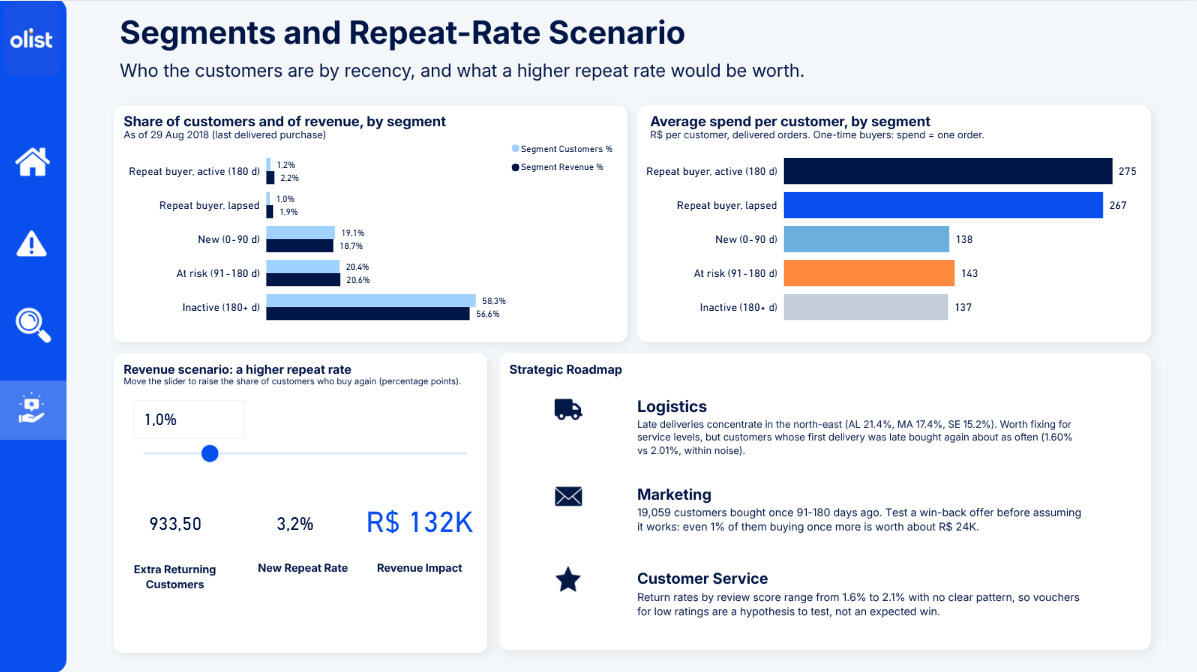

The dashboard page shown, as its layout file describes it:
{"tool":"powerbi","page":{"name":"Segments & Scenario","canvas":[1600,900],"ordinal":3},"visuals":[{"type":"clusteredBarChart","fields":{"Category":["rfm_segments.Segment Label"],"Y":["_measures.AVG LTV"]},"box":[856.3,178.9,673.2,271.8],"z":0},{"type":"slicer","fields":{"Values":["Retention Increase.Retention Increase"]},"box":[166.2,521.1,480.3,112.7],"z":1000},{"type":"cardVisual","fields":{"Data":["_measures.Estimated Revenue Gain"]},"box":[459.2,618.3,205.6,140.8],"z":2000},{"type":"clusteredBarChart","fields":{"Category":["rfm_segments.Segment Label"],"Y":["_measures.Segment Customers %","_measures.Segment Revenue %"]},"box":[166.2,178.9,666.2,271.8],"z":4000},{"type":"cardVisual","fields":{"Data":["_measures.Extra Returning Customers"]},"box":[154.9,618.3,160,140.8],"z":4001},{"type":"cardVisual","fields":{"Data":["_measures.Resulting Repeat Rate"]},"box":[315.5,618.3,160,140.8],"z":4002},{"type":"actionButton","box":[0,178.9,88.7,76.1],"z":4003},{"type":"actionButton","box":[0,290.1,88.7,76.1],"z":4004},{"type":"actionButton","box":[0,394.4,88.7,76.1],"z":4005}]}

Visuals, with their boxes on the page's 1600x900 design canvas (x1, y1, x2, y2). These are canvas units, not pixel positions in the 1197x672 screenshot, which may show the page scaled, cropped or inside an application window:
clusteredBarChart - rfm_segments.Segment Label x _measures.AVG LTV: <region>856, 179, 1530, 451</region>
slicer - Retention Increase.Retention Increase: <region>166, 521, 646, 634</region>
cardVisual - _measures.Estimated Revenue Gain: <region>459, 618, 665, 759</region>
clusteredBarChart - rfm_segments.Segment Label x _measures.Segment Customers %: <region>166, 179, 832, 451</region>
cardVisual - _measures.Extra Returning Customers: <region>155, 618, 315, 759</region>
cardVisual - _measures.Resulting Repeat Rate: <region>316, 618, 476, 759</region>
actionButton: <region>0, 179, 89, 255</region>
actionButton: <region>0, 290, 89, 366</region>
actionButton: <region>0, 394, 89, 470</region>
